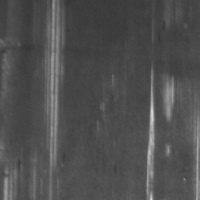scratches: (39, 0, 69, 173), (142, 62, 160, 199)
